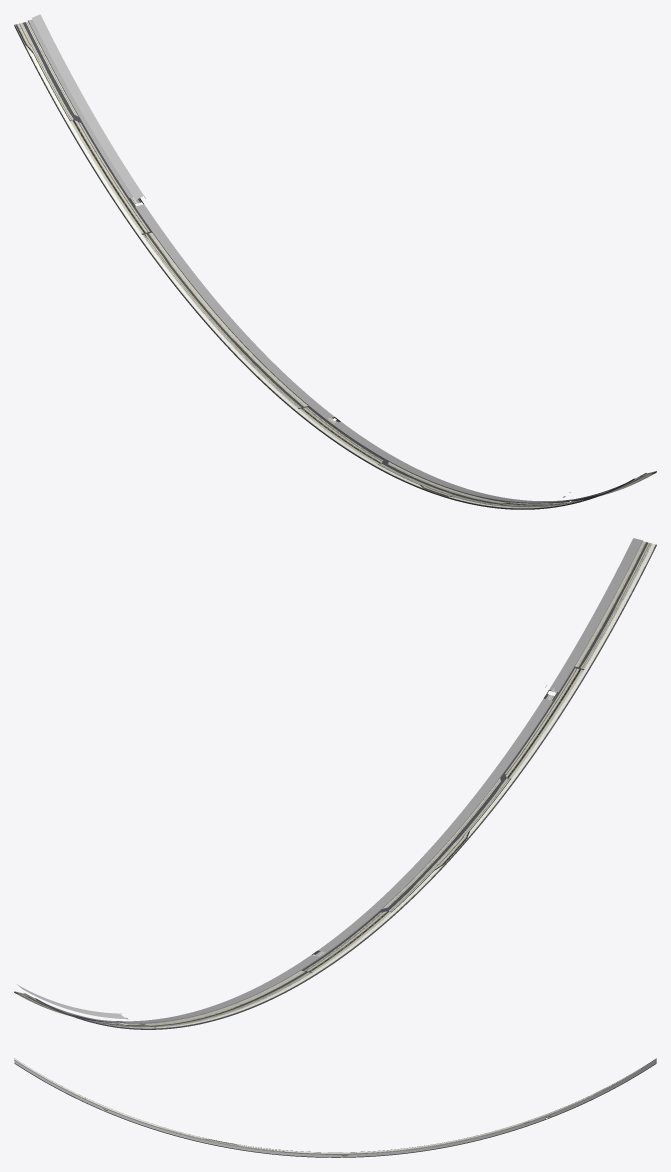
Rendered from STA20_68.FBX.
The picture shows the model from 3 angles, top to bottom: view 1: azimuth 30°, elevation 25°; view 2: azimuth 150°, elevation 25°; view 3: azimuth 270°, elevation 25°; orthographic projection. The views are drawn at different scales.
Parts seen in each view (by area): view 1: STA20_68; view 2: STA20_68; view 3: STA20_68.
Boxes of the visible parts, box(x1,y1,x2,y2) form: STA20_68: box(14, 14, 656, 509); STA20_68: box(14, 538, 656, 1029); STA20_68: box(14, 1058, 656, 1157).
Bounding box in the file's own units: 83.08 × 647 × 3837.
